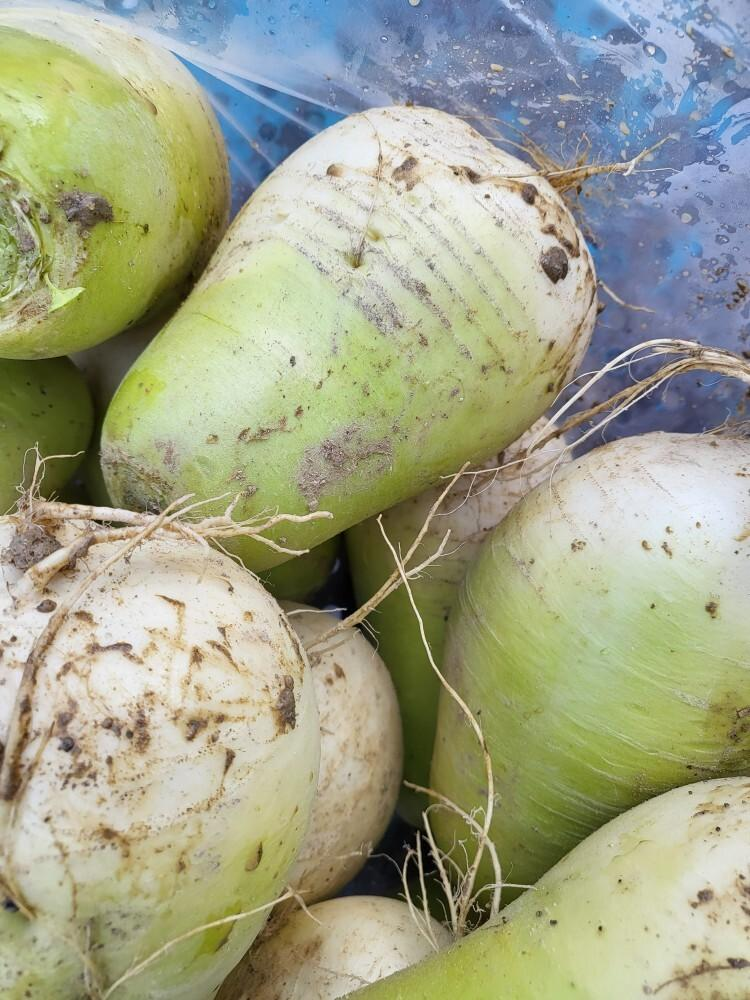radish: (152, 252, 586, 820)
